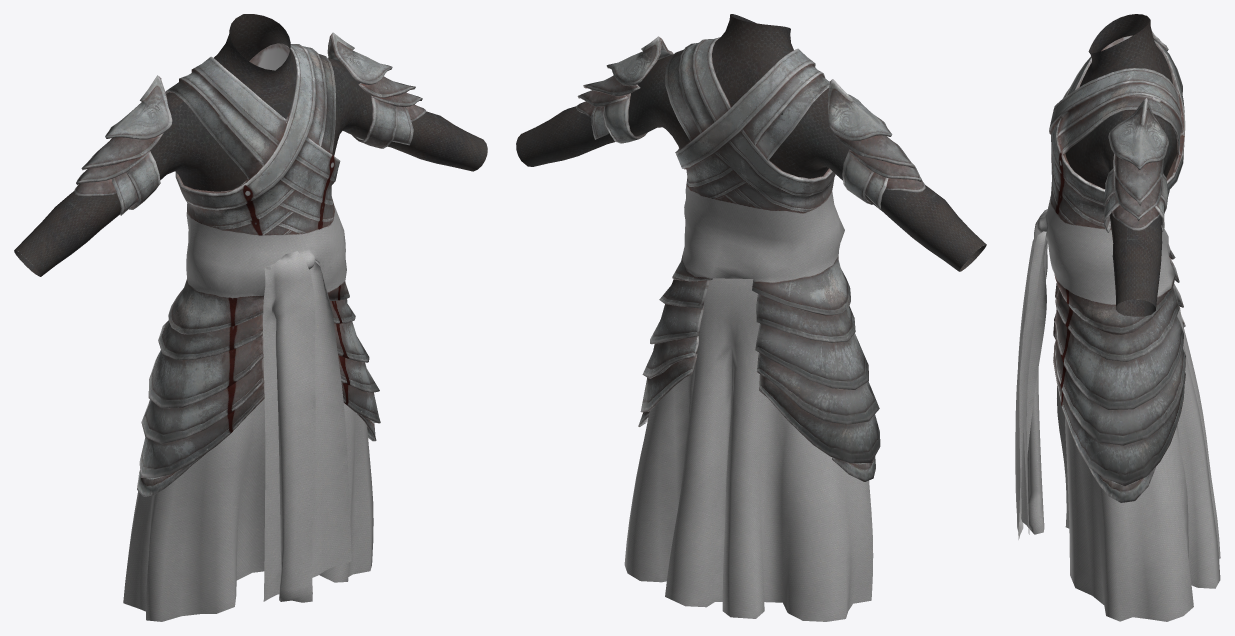
The model's file is rivendell_body_silver_c.fbx.
The picture shows the model from 3 angles, left to right: view 1: azimuth 30°, elevation 25°; view 2: azimuth 150°, elevation 25°; view 3: azimuth 270°, elevation 25°; orthographic projection. The views are drawn at different scales.
Parts seen in each view (by area): view 1: rivendell_body_silver_c; view 2: rivendell_body_silver_c; view 3: rivendell_body_silver_c.
Boxes of the visible parts, left/top/right/bottom form: rivendell_body_silver_c: left=14, top=14, right=487, bottom=621; rivendell_body_silver_c: left=516, top=14, right=986, bottom=621; rivendell_body_silver_c: left=1015, top=14, right=1220, bottom=621.
Size of the model in its own units: 1.23 by 0.4871 by 1.45.
1 material, 1 textured.
